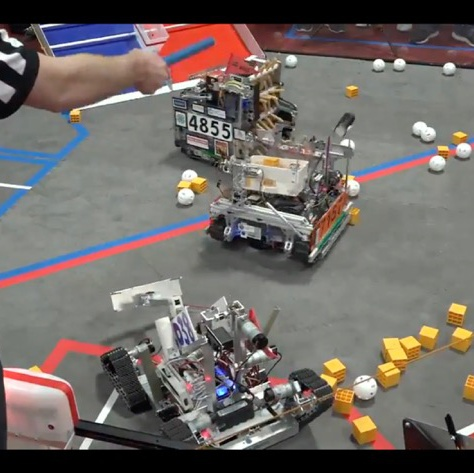robot: (98, 274, 336, 451), (205, 112, 359, 268), (169, 52, 302, 164)
